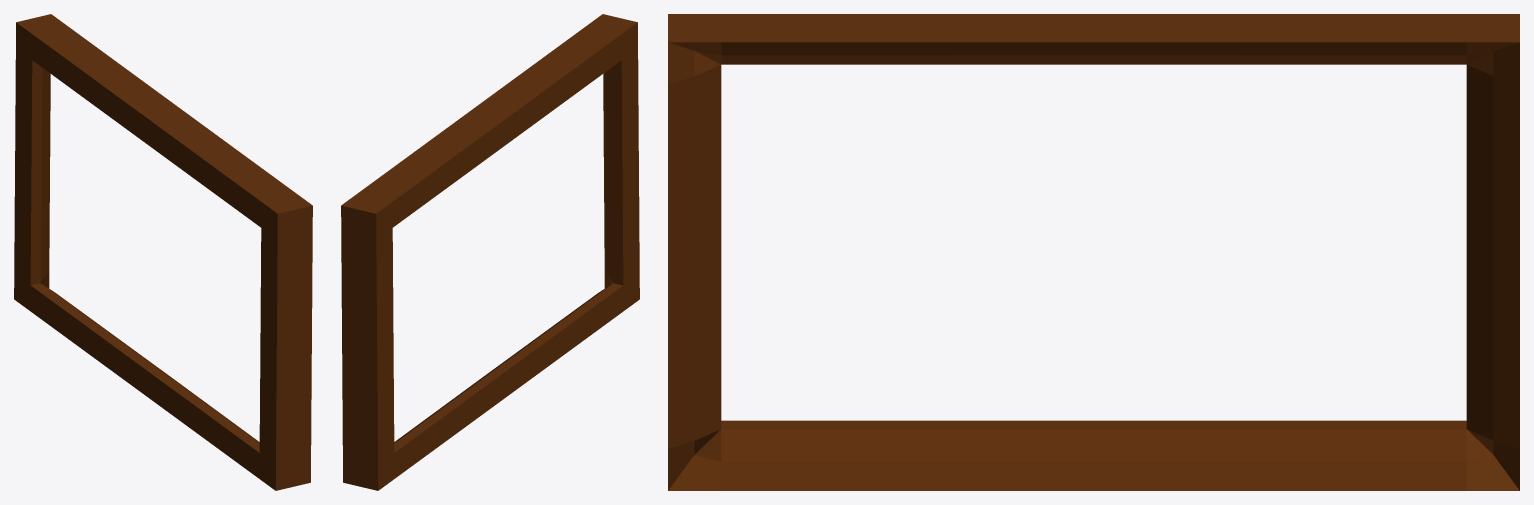
Rendered from frame.fbx.
3 views of the same model, side by side, from view 1: azimuth 30°, elevation 25°; view 2: azimuth 150°, elevation 25°; view 3: azimuth 270°, elevation 25° (orthographic). The views are drawn at different scales.
Parts seen in each view (by area): view 1: 平面; view 2: 平面; view 3: 平面.
Part boxes in pixels (x1,y1,x2,y2): 平面: (14,14,312,490); 平面: (341,14,639,490); 平面: (668,14,1519,490).
Size of the model in its own units: 39.56 by 282 by 483.
